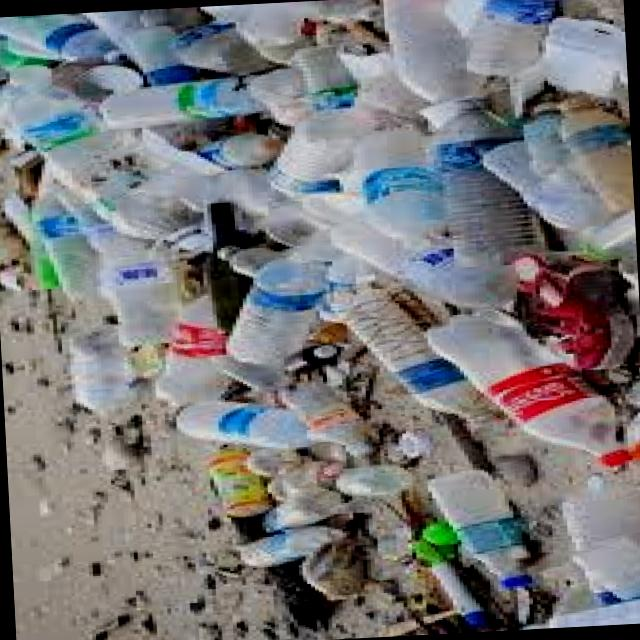bottle: (428, 315, 636, 467), (4, 67, 181, 239), (347, 283, 492, 423), (433, 101, 545, 266), (331, 218, 517, 307), (429, 471, 532, 589), (484, 140, 608, 232), (353, 127, 448, 246), (226, 260, 328, 365), (384, 0, 487, 102), (524, 104, 608, 224), (98, 233, 181, 347), (563, 483, 639, 603), (271, 109, 370, 195), (99, 78, 263, 129), (156, 296, 231, 407), (561, 99, 633, 212), (33, 193, 99, 300), (412, 540, 492, 628), (467, 0, 559, 76), (177, 400, 314, 450), (283, 383, 372, 457), (341, 49, 427, 123), (143, 133, 284, 176), (0, 14, 123, 63), (207, 203, 253, 333), (70, 329, 141, 413), (1, 195, 58, 289), (172, 23, 272, 75), (123, 26, 200, 86), (237, 526, 346, 567), (573, 538, 639, 604), (291, 46, 357, 110), (209, 450, 272, 517), (193, 133, 284, 176), (262, 487, 345, 532), (248, 69, 312, 126), (232, 1, 311, 46), (319, 255, 371, 323), (84, 10, 143, 65), (217, 169, 283, 218), (268, 462, 343, 501), (216, 355, 288, 393), (262, 197, 315, 248), (336, 464, 416, 497), (583, 211, 636, 259), (550, 600, 639, 627), (0, 41, 58, 81), (217, 245, 282, 278), (248, 36, 317, 65), (284, 343, 341, 375), (244, 449, 307, 477), (307, 0, 383, 23), (141, 7, 208, 31), (5, 39, 62, 61), (0, 227, 26, 266), (0, 33, 6, 81)
plastic: (484, 140, 608, 231), (412, 540, 492, 628), (543, 17, 626, 97), (303, 540, 368, 600), (445, 0, 486, 37), (0, 43, 54, 70), (399, 431, 433, 459)
